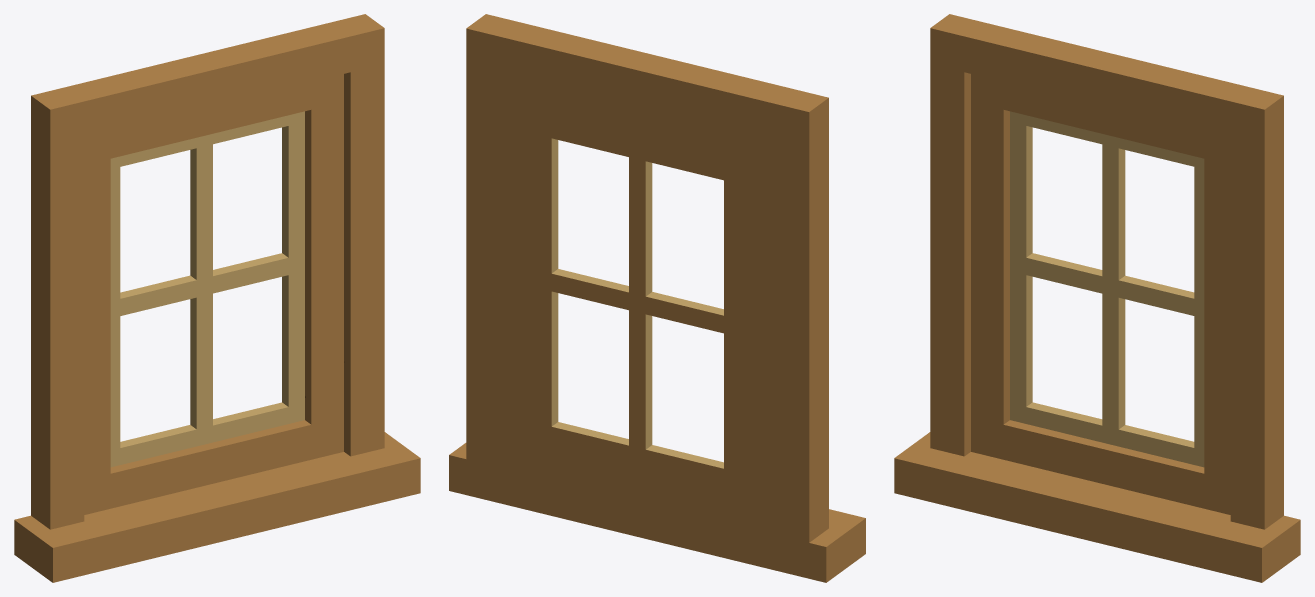
File: window.fbx
3 views of the same model, side by side, from view 1: azimuth 30°, elevation 25°; view 2: azimuth 150°, elevation 25°; view 3: azimuth 330°, elevation 25° (orthographic). The views are drawn at different scales.
Parts seen in each view (by area): view 1: Window; view 2: Window; view 3: Window.
Part boxes in pixels (x1,y1,x2,y2): Window: (14,14,420,582); Window: (449,14,865,582); Window: (894,14,1300,582).
Size of the model in its own units: 110 by 130 by 20.
